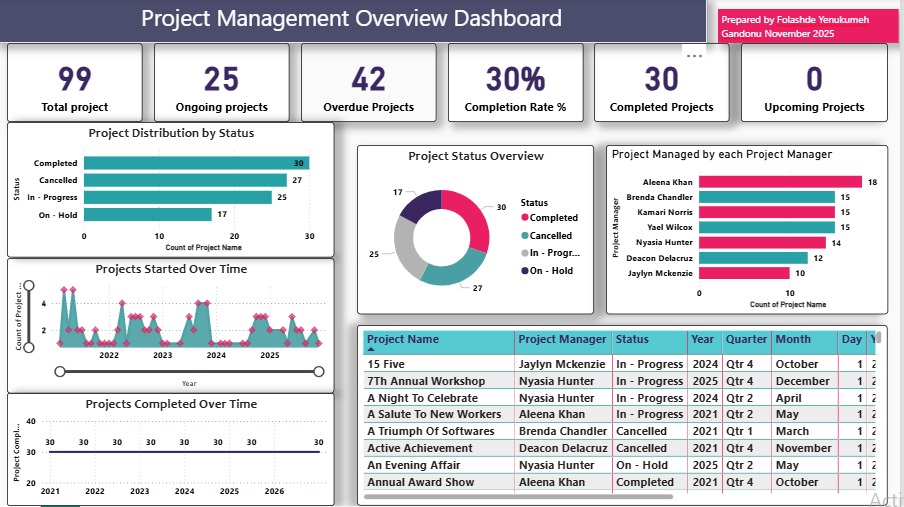

The page's visual inventory and layout, read from the dashboard file:
{"tool":"powerbi","page":{"name":"Page 1","canvas":[1280,720],"ordinal":0},"visuals":[{"type":"card","fields":{"Values":["Project Management Dataset.Total project"]},"box":[16,64,192,112],"z":0},{"type":"card","fields":{"Values":["Project Management Dataset.Completed Projects"]},"box":[848,64,192,112],"z":1000},{"type":"card","fields":{"Values":["CountNonNull(Project Management Dataset.Project Name)"]},"box":[224,64,192,112],"z":2000},{"type":"card","fields":{"Values":["Project Management Dataset.Overdue Projects"]},"box":[432,64,192,112],"z":3000},{"type":"card","fields":{"Values":["Project Management Dataset.Completion Rate %"]},"box":[640,64,192,112],"z":4000},{"type":"card","fields":{"Values":["Project Management Dataset.Upcoming Projects"]},"box":[1056,64,208,112],"z":5000},{"type":"donutChart","title":" Project Status Overview","fields":{"Category":["Project Management Dataset.Status"],"Y":["CountNonNull(Project Management Dataset.Project Name)"]},"box":[512,208,336,240],"z":6000},{"type":"clusteredBarChart","title":" Project Managed by each Project Manager","fields":{"Category":["Project Management Dataset.Project Manager"],"Y":["CountNonNull(Project Management Dataset.Project Name)"]},"box":[864,208,400,240],"z":7000},{"type":"lineChart","title":"Projects Started Over Time","fields":{"Category":["Project Management Dataset.Start Date.Variation.Date Hierarchy.Year","Project Management Dataset.Start Date.Variation.Date Hierarchy.Quarter","Project Management Dataset.Start Date.Variation.Date Hierarchy.Month","Project Management Dataset.Start Date.Variation.Date Hierarchy.Day"],"Y":["CountNonNull(Project Management Dataset.Project Name)"]},"box":[16,368,464,192],"z":8000},{"type":"lineChart","title":"Projects Completed Over  Time","fields":{"Category":["Project Management Dataset.End Date.Variation.Date Hierarchy.Year","Project Management Dataset.End Date.Variation.Date Hierarchy.Quarter","Project Management Dataset.End Date.Variation.Date Hierarchy.Month","Project Management Dataset.End Date.Variation.Date Hierarchy.Day"],"Y":["Project Management Dataset.Project Completed Over Time"]},"box":[16,560,464,160],"z":9000},{"type":"tableEx","fields":{"Values":["Project Management Dataset.Project Name","Project Management Dataset.Project Manager","Project Management Dataset.Status","Project Management Dataset.Start Date.Variation.Date Hierarchy.Year","Project Management Dataset.Start Date.Variation.Date Hierarchy.Quarter","Project Management Dataset.Start Date.Variation.Date Hierarchy.Month","Project Management Dataset.Start Date.Variation.Date Hierarchy.Day","Project Management Dataset.End Date.Variation.Date Hierarchy.Year","Project Management Dataset.End Date.Variation.Date Hierarchy.Quarter","Project Management Dataset.End Date.Variation.Date Hierarchy.Month","Project Management Dataset.End Date.Variation.Date Hierarchy.Day","Project Management Dataset.Department"]},"box":[512,464,752,256],"z":10000},{"type":"clusteredBarChart","title":" Project Distribution by Status","fields":{"Category":["Project Management Dataset.Status"],"Y":["CountNonNull(Project Management Dataset.Project Name)"]},"box":[16,176,464,192],"z":11000},{"type":"textbox","box":[0,0,1008,64],"z":12000},{"type":"textbox","box":[1024,16,256,48],"z":13000}]}

Visuals, with their boxes in screenshot pixels (x1, y1, x2, y2), scaled from the page's 1280x720 canvas onto the 904x507 screenshot:
card - Project Management Dataset.Total project: x1=11 y1=45 x2=147 y2=124
card - Project Management Dataset.Completed Projects: x1=599 y1=45 x2=734 y2=124
card - CountNonNull(Project Management Dataset.Project Name): x1=158 y1=45 x2=294 y2=124
card - Project Management Dataset.Overdue Projects: x1=305 y1=45 x2=441 y2=124
card - Project Management Dataset.Completion Rate %: x1=452 y1=45 x2=588 y2=124
card - Project Management Dataset.Upcoming Projects: x1=746 y1=45 x2=893 y2=124
" Project Status Overview" donutChart: x1=362 y1=146 x2=599 y2=315
" Project Managed by each Project Manager" clusteredBarChart: x1=610 y1=146 x2=893 y2=315
"Projects Started Over Time" lineChart: x1=11 y1=259 x2=339 y2=394
"Projects Completed Over  Time" lineChart: x1=11 y1=394 x2=339 y2=506
tableEx - Project Management Dataset.Project Name x Project Management Dataset.Project Manager: x1=362 y1=327 x2=893 y2=506
" Project Distribution by Status" clusteredBarChart: x1=11 y1=124 x2=339 y2=259
textbox: x1=0 y1=0 x2=712 y2=45
textbox: x1=723 y1=11 x2=903 y2=45
